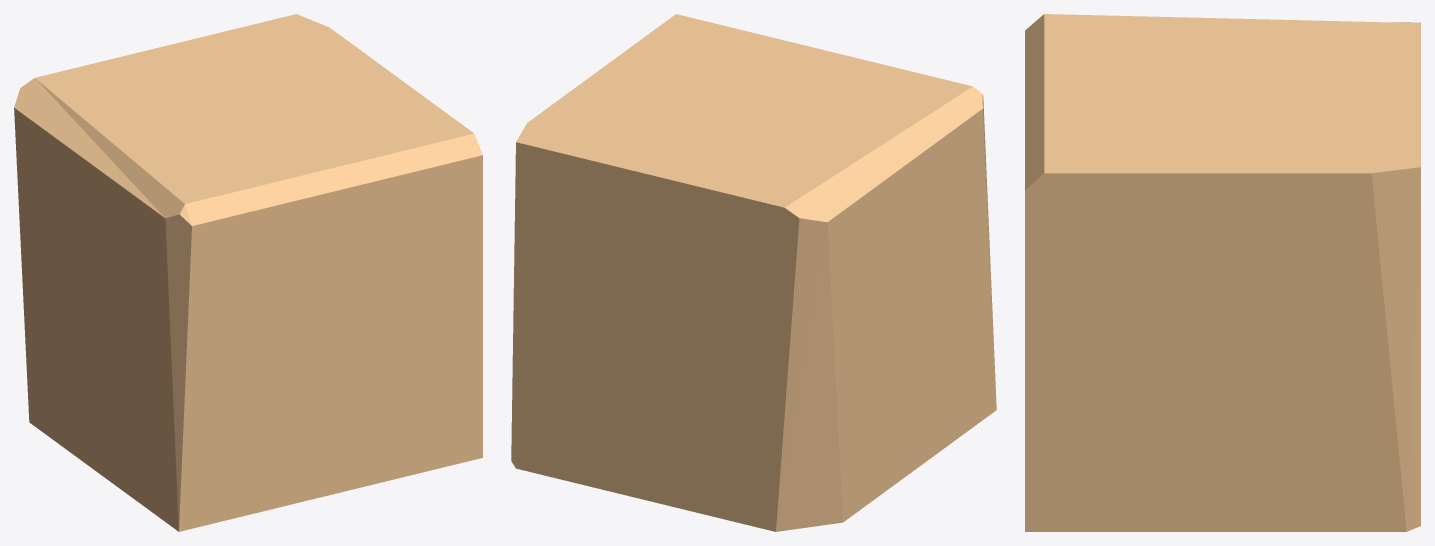
The model's file is 3D_Small_Block.FBX.
3 views of the same model, side by side, from view 1: azimuth 30°, elevation 25°; view 2: azimuth 150°, elevation 25°; view 3: azimuth 270°, elevation 25° (orthographic). The views are drawn at different scales.
Visible parts, largest first — view 1: 3D_Small_Block; view 2: 3D_Small_Block; view 3: 3D_Small_Block.
Part boxes in pixels (x1,y1,x2,y2): 3D_Small_Block: (14, 14, 482, 531); 3D_Small_Block: (511, 14, 996, 531); 3D_Small_Block: (1025, 14, 1420, 531).
Bounding box in the file's own units: 100 × 100 × 100.
1 material, 1 textured.
